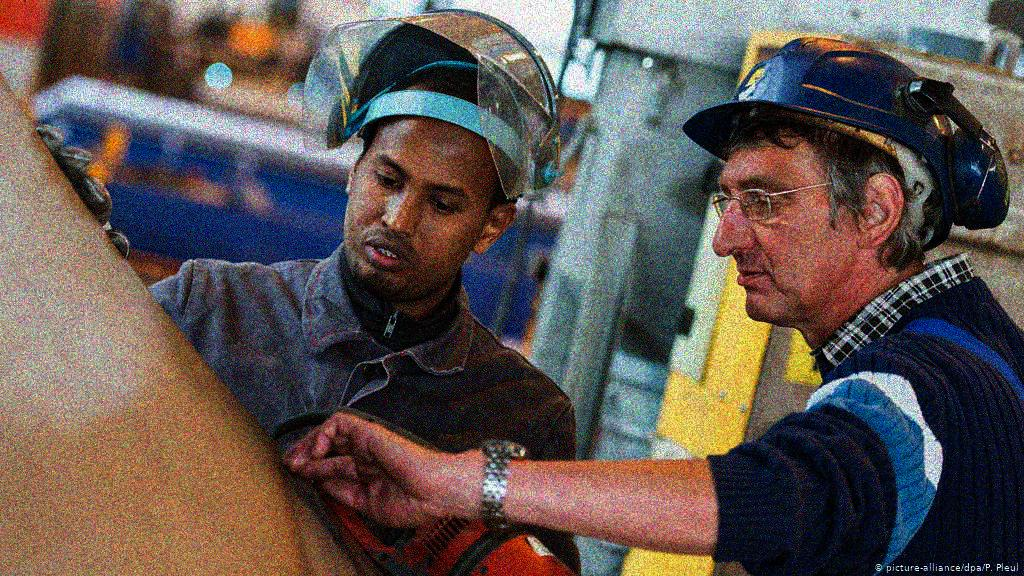helmet: (676, 35, 970, 338), (324, 8, 563, 318)
